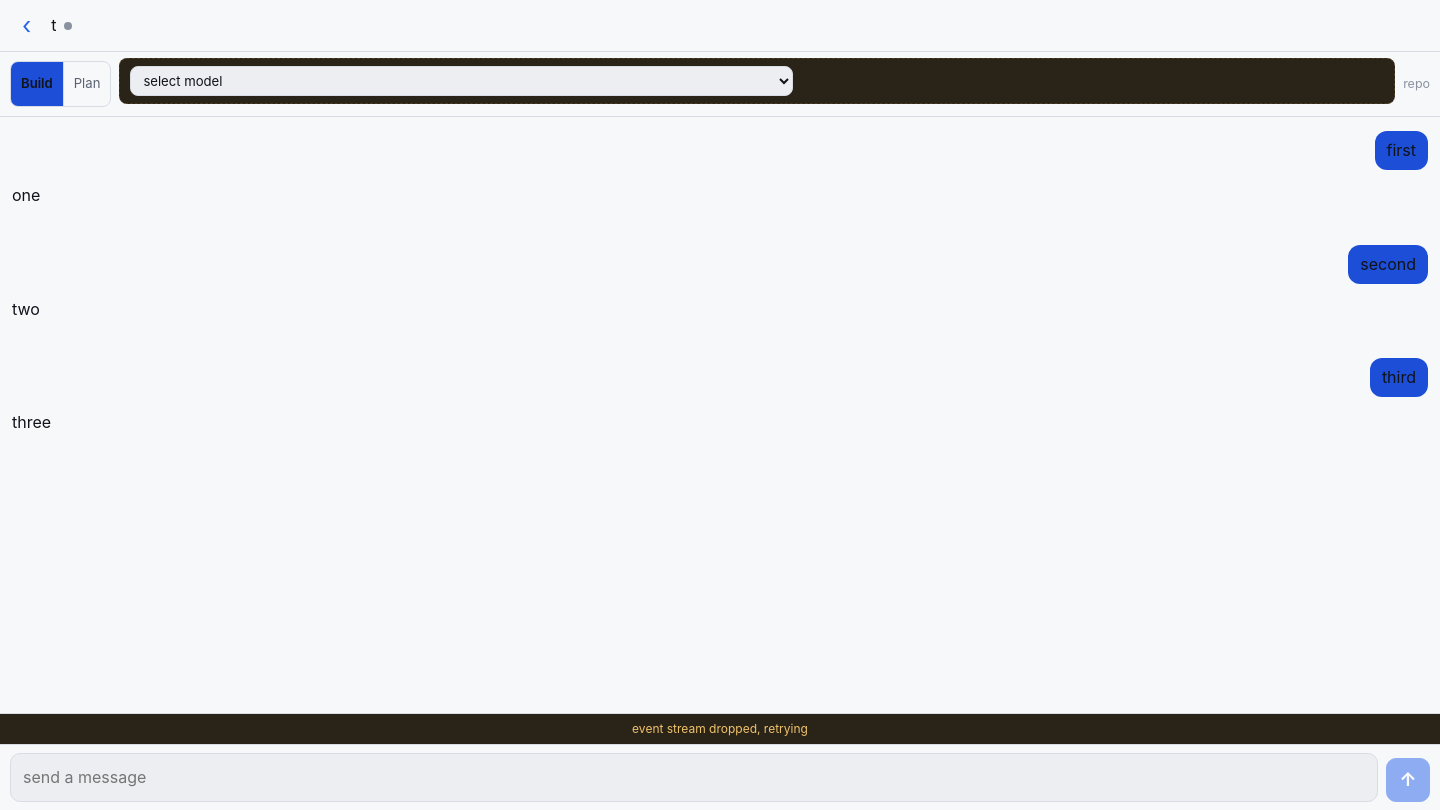
long-press actions › restores the tail
Press the mouse on the button named "Send" at x=1408, y=780, box [1386,758,1430,802]
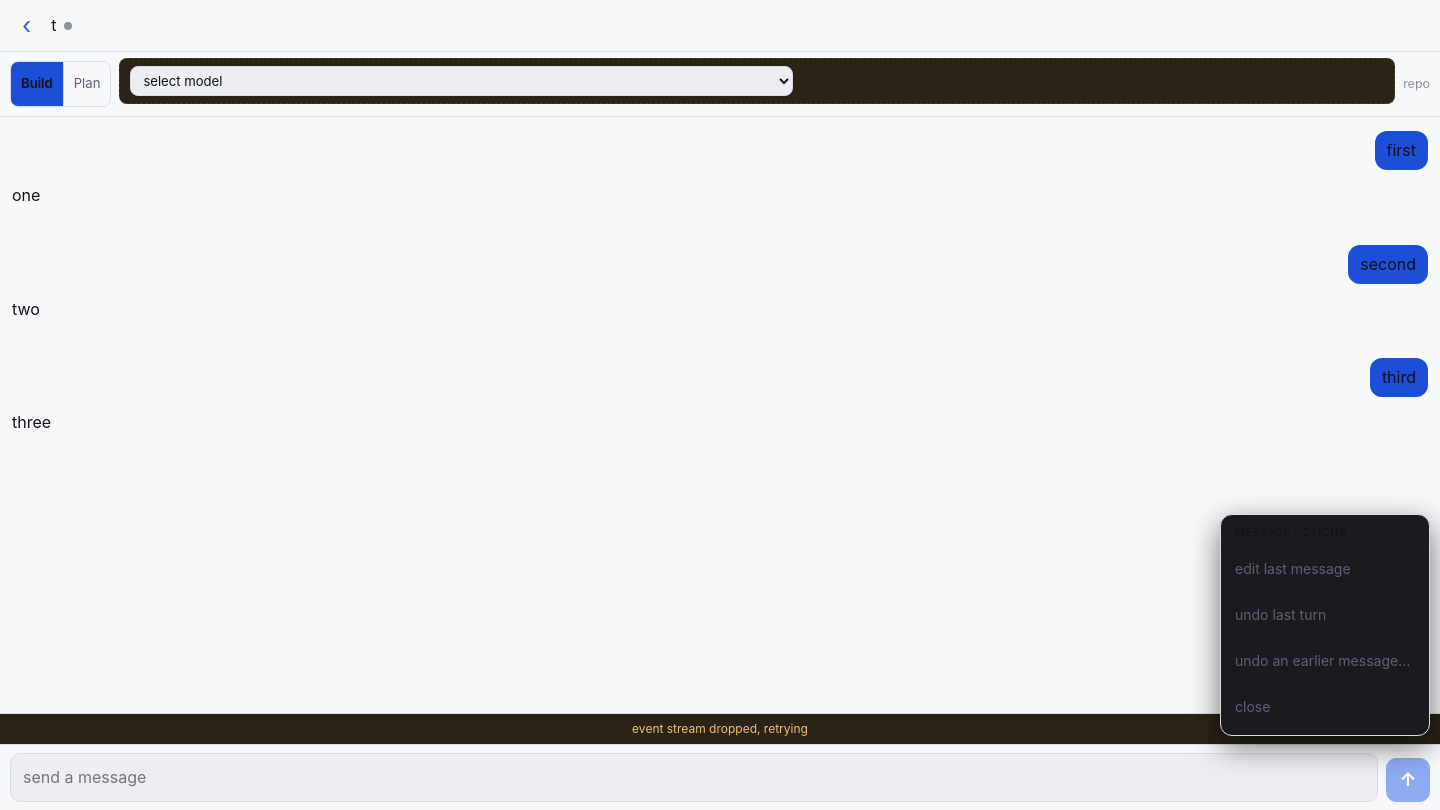
Click the menu item "undo last turn" at x=1325, y=615, box [1227,593,1423,637]
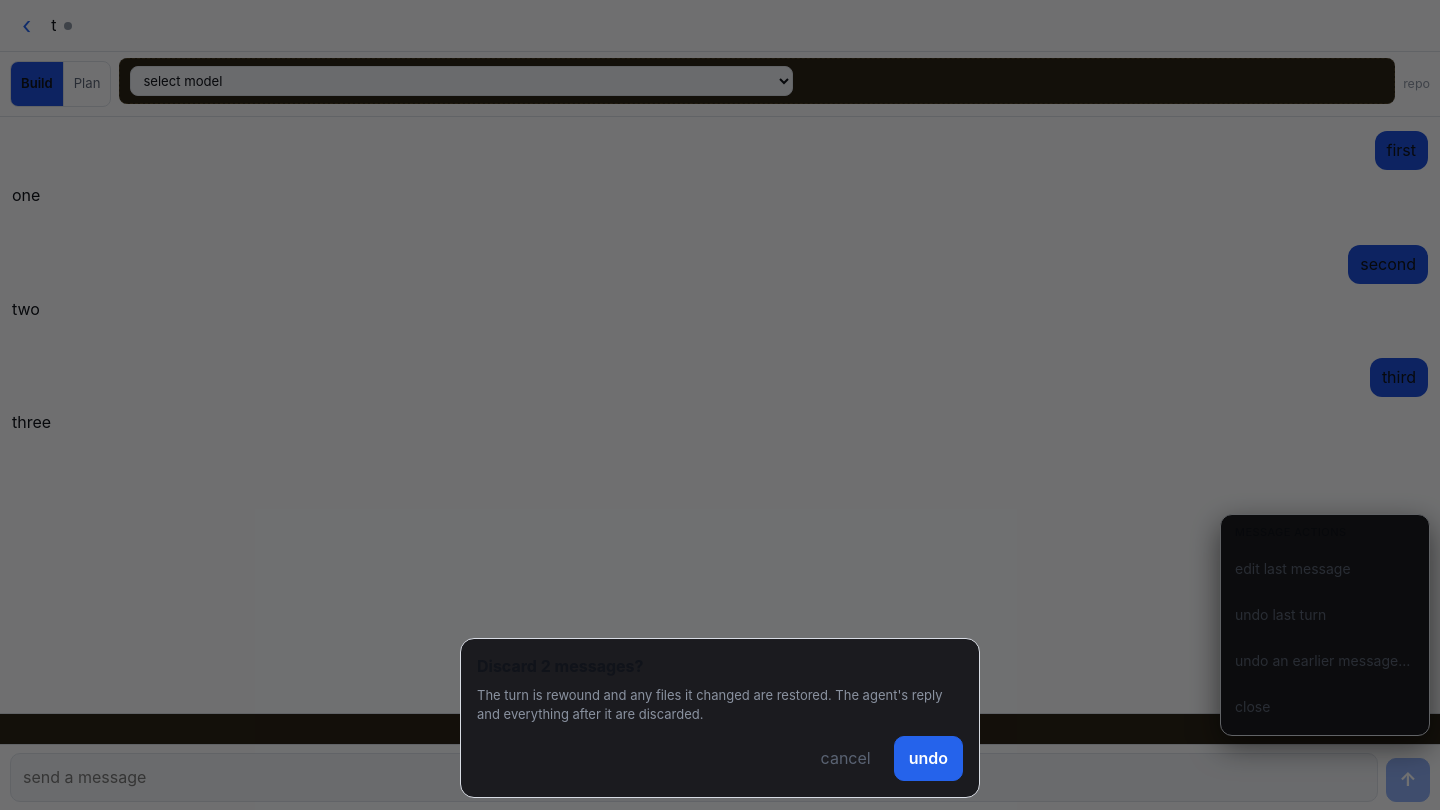
Click the button "undo" at x=928, y=758, box [894,736,963,781]
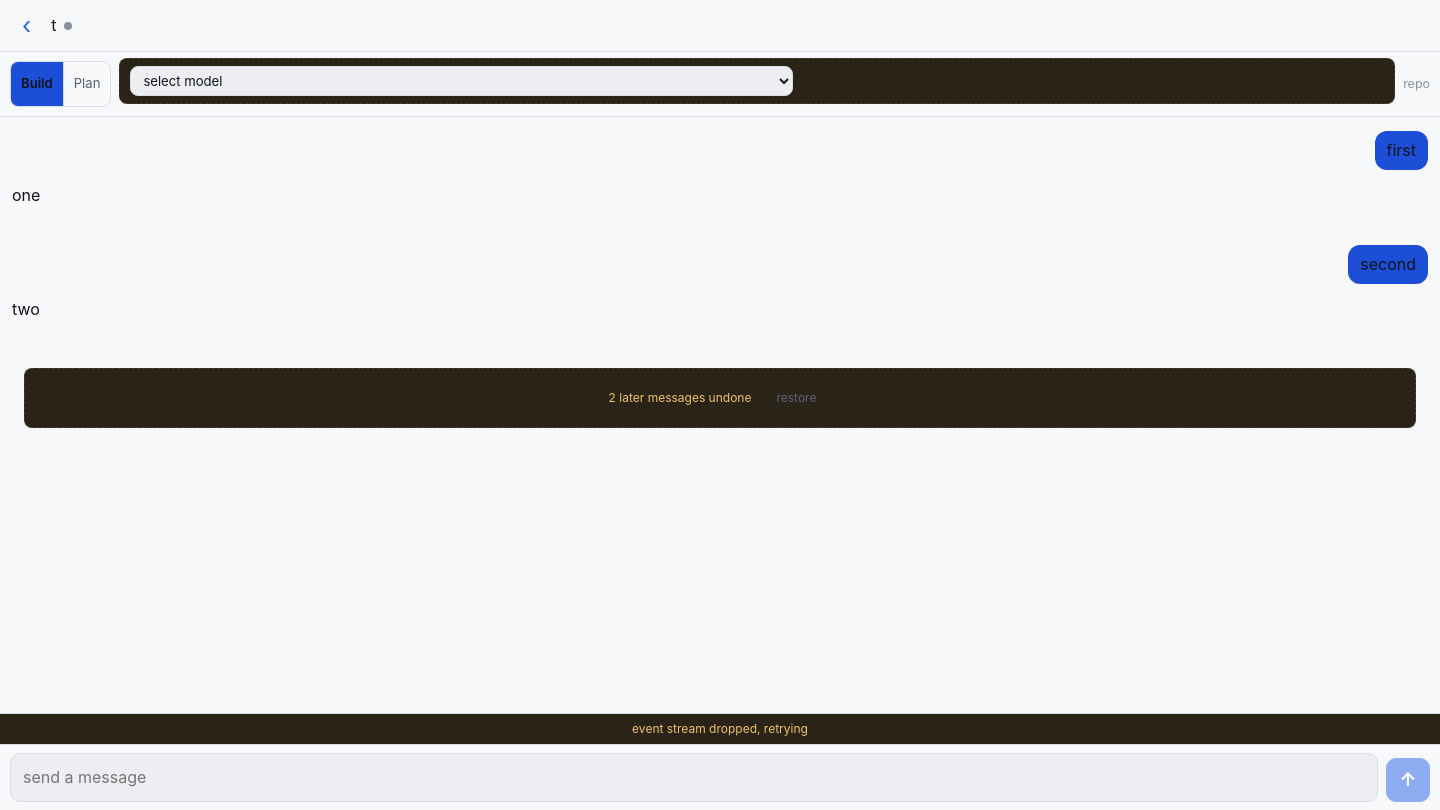
Expected: the text "2 later messages undone" is shown, [609,389,751,407]
Click the button "restore" at x=796, y=398, box [761,376,831,420]
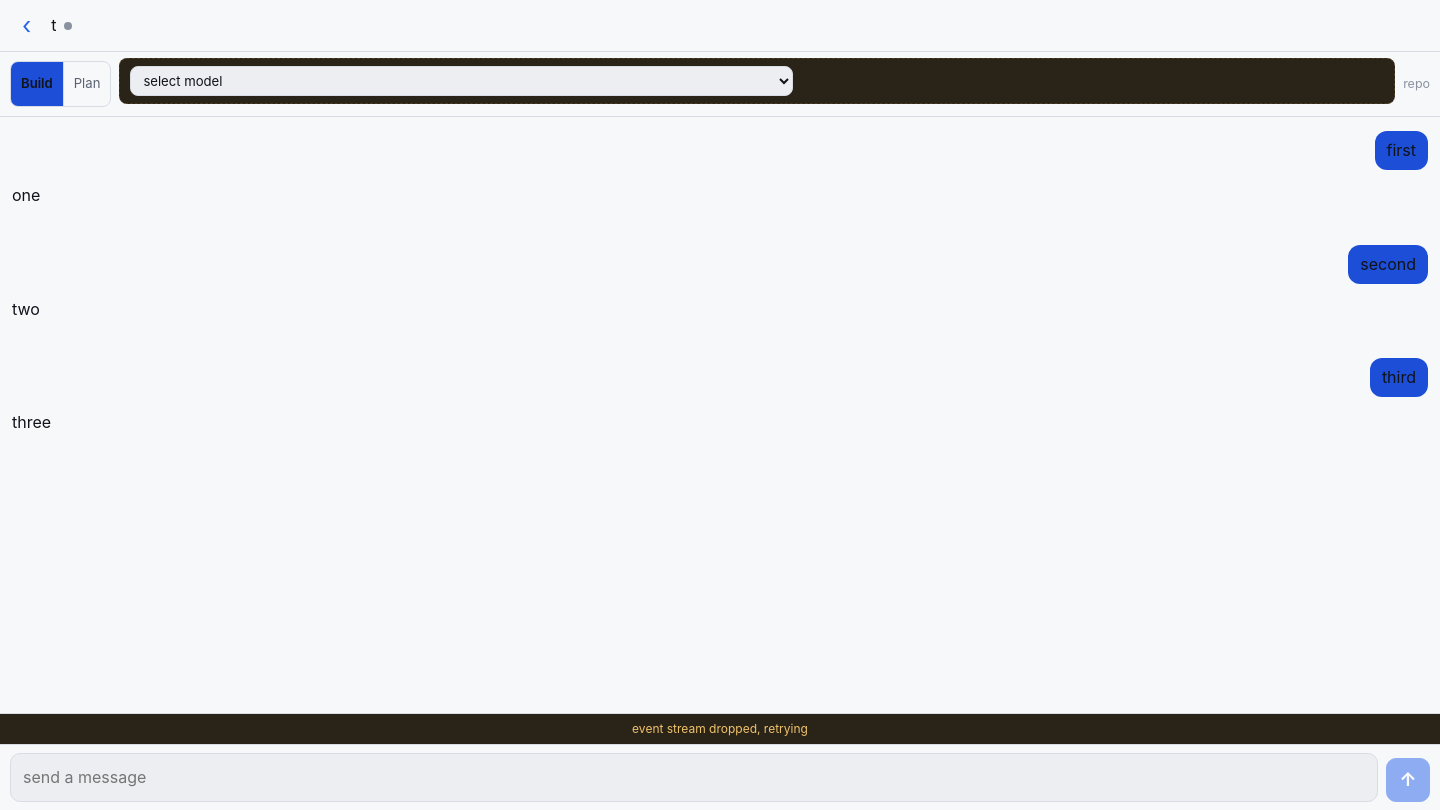
Expected: the text "later message" is gone
Expected: the text "third" is shown, [1382,367,1416,387]
